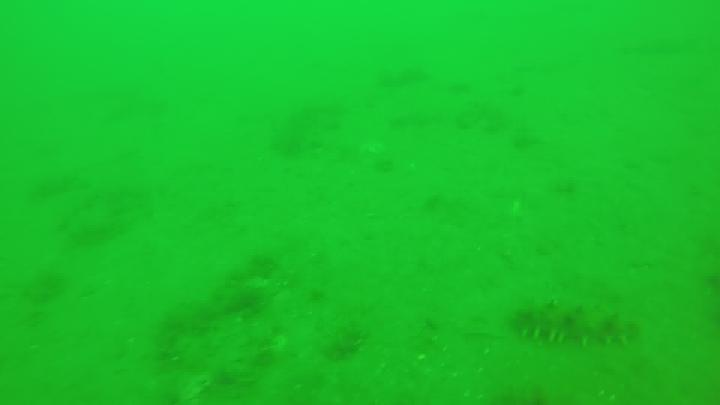holothurian: (515, 300, 638, 353)
scallop: (179, 376, 213, 404), (268, 337, 287, 352)
